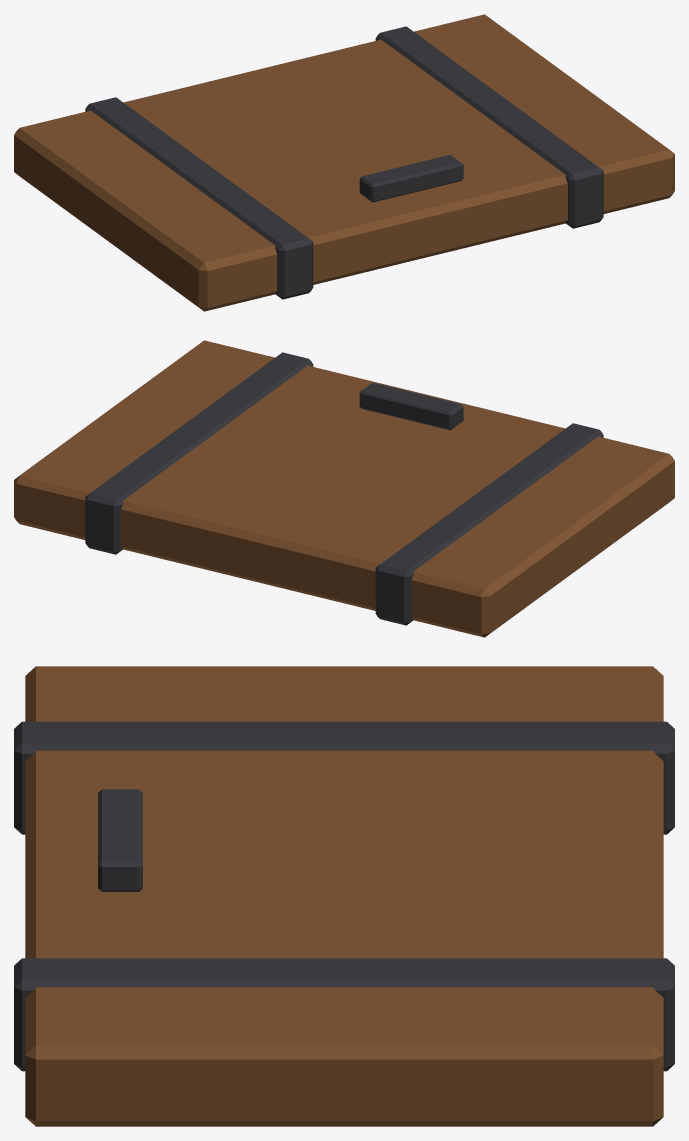
Rendered from Prop_Ash_SeedCache_Lid.glb.
The picture shows the model from 3 angles, top to bottom: view 1: azimuth 30°, elevation 25°; view 2: azimuth 150°, elevation 25°; view 3: azimuth 270°, elevation 25°; orthographic projection. The views are drawn at different scales.
Parts seen in each view (by area): view 1: Prop_Ash_SeedCache_Lid; view 2: Prop_Ash_SeedCache_Lid; view 3: Prop_Ash_SeedCache_Lid.
Part boxes in pixels (x1=…): Prop_Ash_SeedCache_Lid: x1=14, y1=14, x2=674, y2=311; Prop_Ash_SeedCache_Lid: x1=14, y1=340, x2=674, y2=637; Prop_Ash_SeedCache_Lid: x1=14, y1=666, x2=674, y2=1126.
Size of what is drawn, in the model's own units: 0.82 by 0.115 by 0.59.
